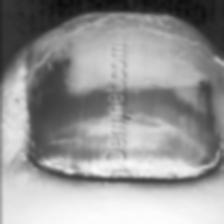Toxin: (129, 74, 224, 184), (32, 64, 106, 174), (42, 158, 104, 184)
